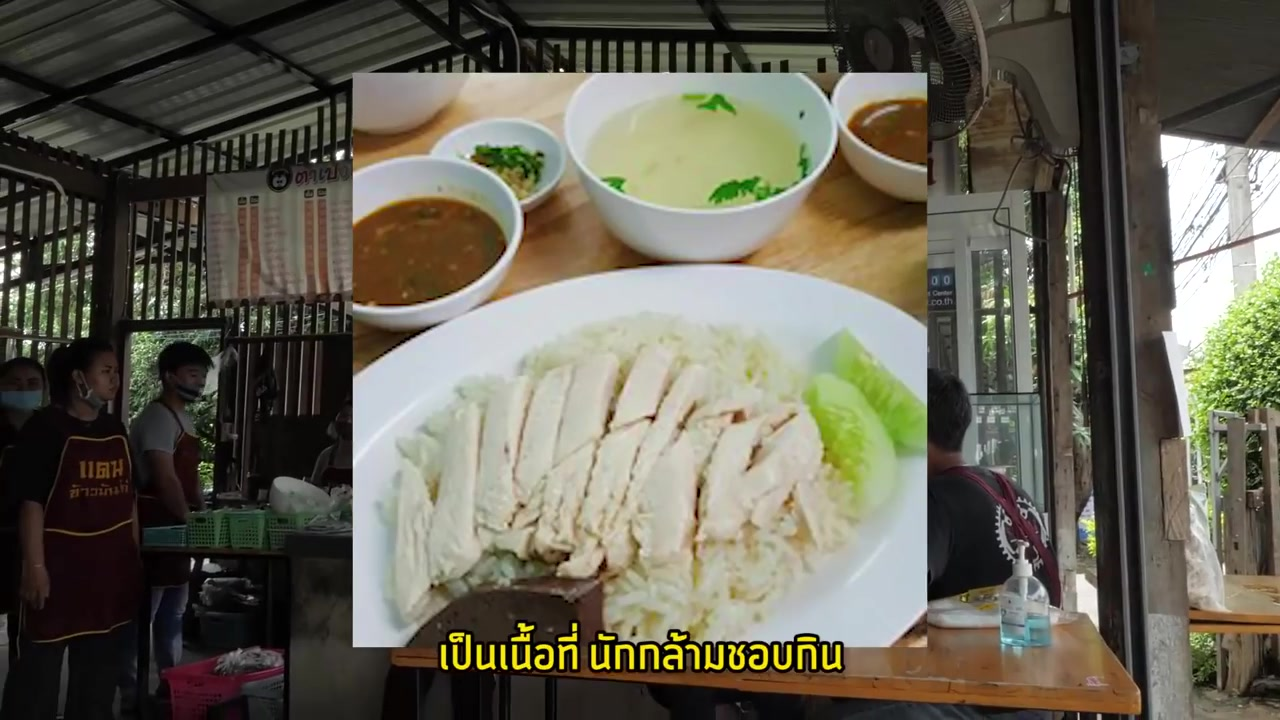text-label: (436, 617, 848, 673)
